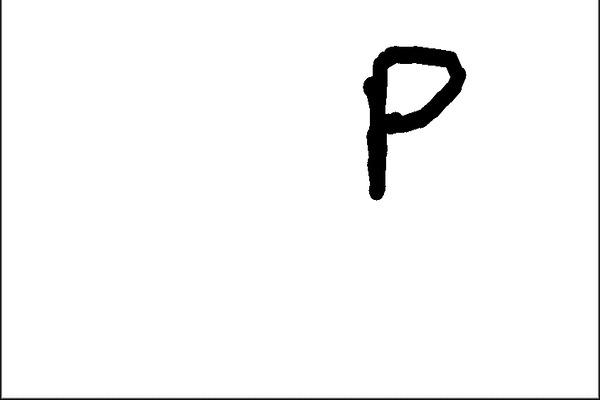P: (348, 35, 469, 205)
